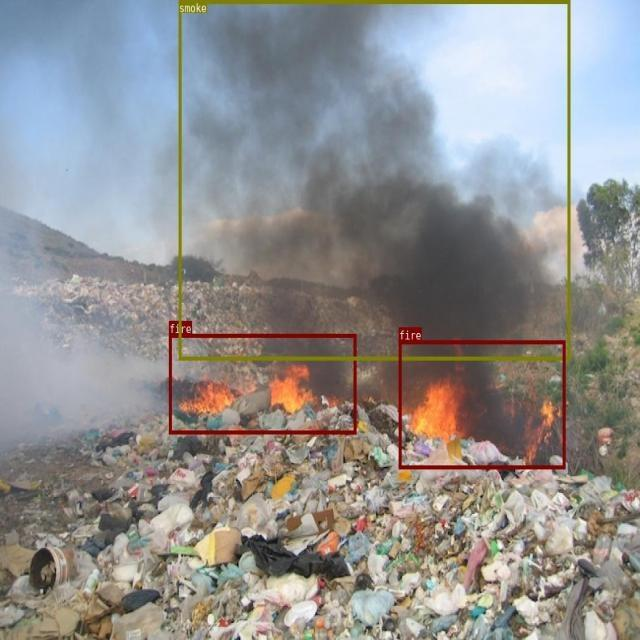fire: (398, 340, 565, 468), (169, 333, 356, 433)
smoke: (179, 0, 569, 360)
